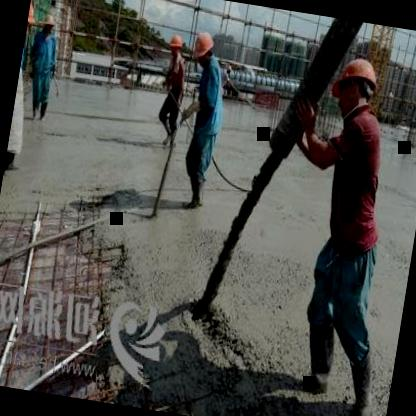helmet: (326, 49, 386, 121), (188, 26, 216, 72), (24, 0, 39, 42), (166, 32, 184, 60)
